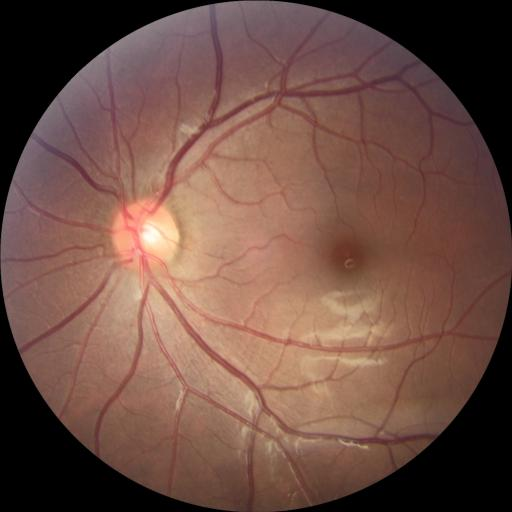Optic Cup: (136, 221, 161, 246)
Optic Disc: (112, 200, 179, 273)
